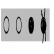correct: (28, 14, 34, 36)
not correct: (40, 7, 47, 46)
